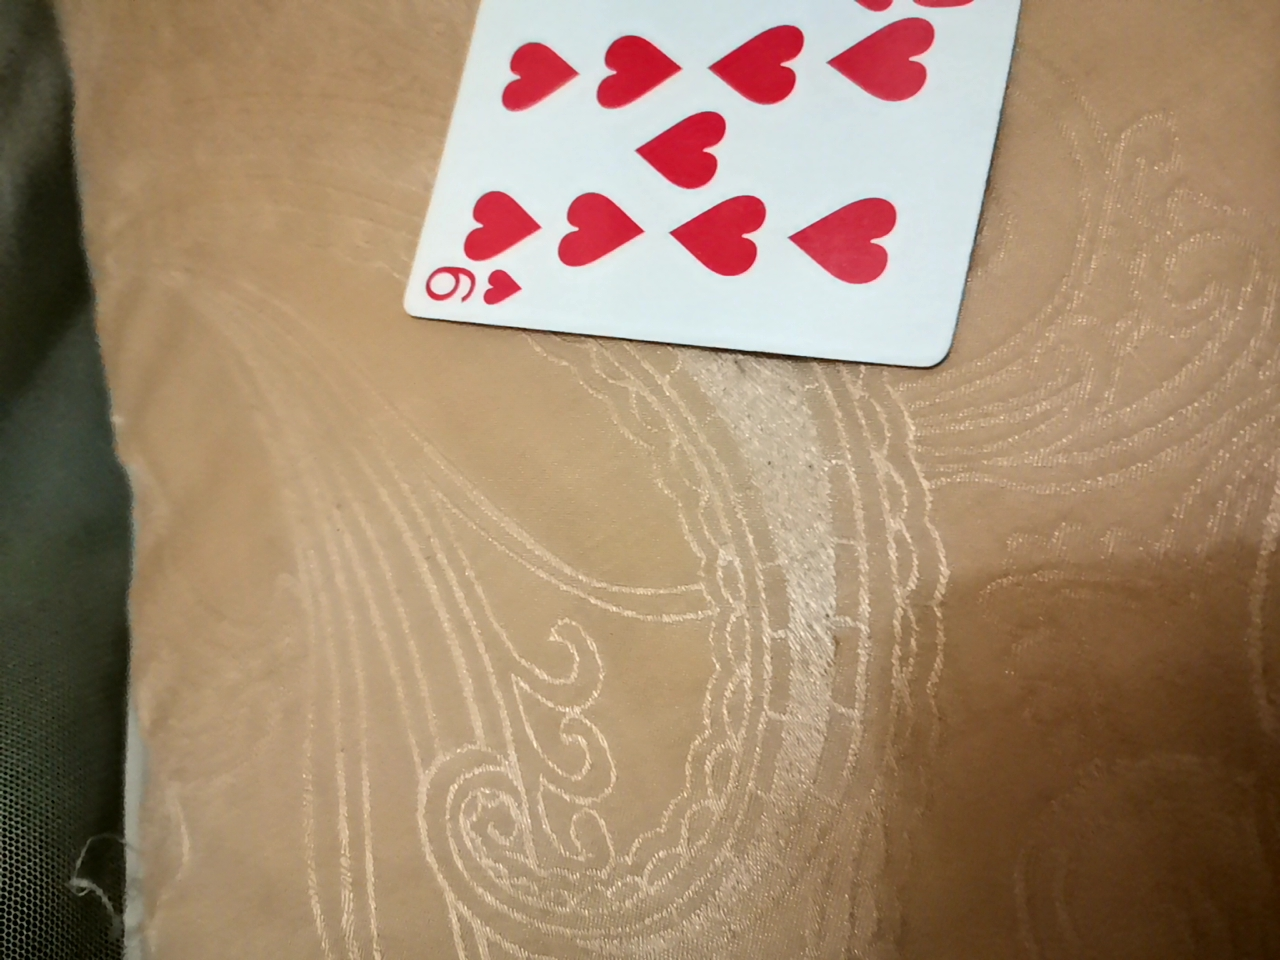hx 9: (409, 10, 1034, 408)
